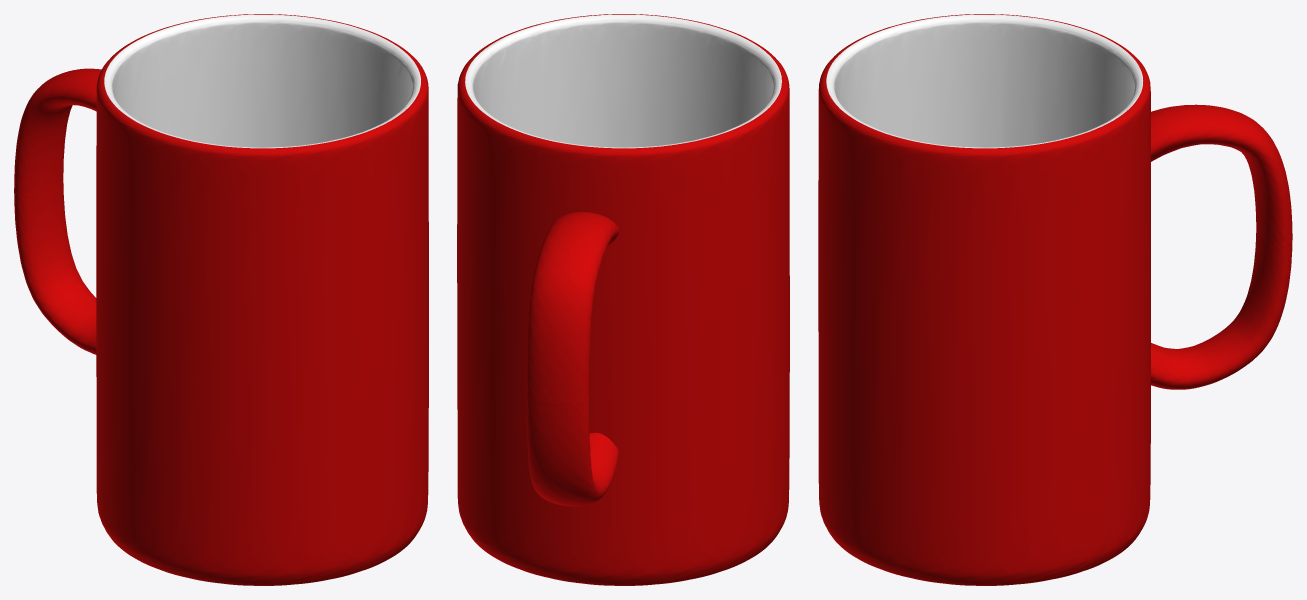
The model's file is cup_of_coffee.glb.
3 views of the same model, side by side, from view 1: azimuth 30°, elevation 25°; view 2: azimuth 150°, elevation 25°; view 3: azimuth 270°, elevation 25° (orthographic).
Parts seen in each view (by area): view 1: Object_2, Object_3; view 2: Object_2, Object_3; view 3: Object_2, Object_3.
Boxes of the visible parts, x1,y1,x2,y2 form: Object_2: (14,14,428,585); Object_3: (104,14,420,148); Object_2: (457,14,789,585); Object_3: (465,14,781,148); Object_2: (818,14,1292,585); Object_3: (826,14,1142,148).
Size of the model in its own units: 0.7882 by 1.15 by 1.12.
